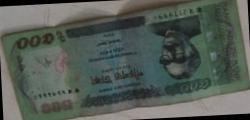500 taka: (3, 4, 234, 109)
